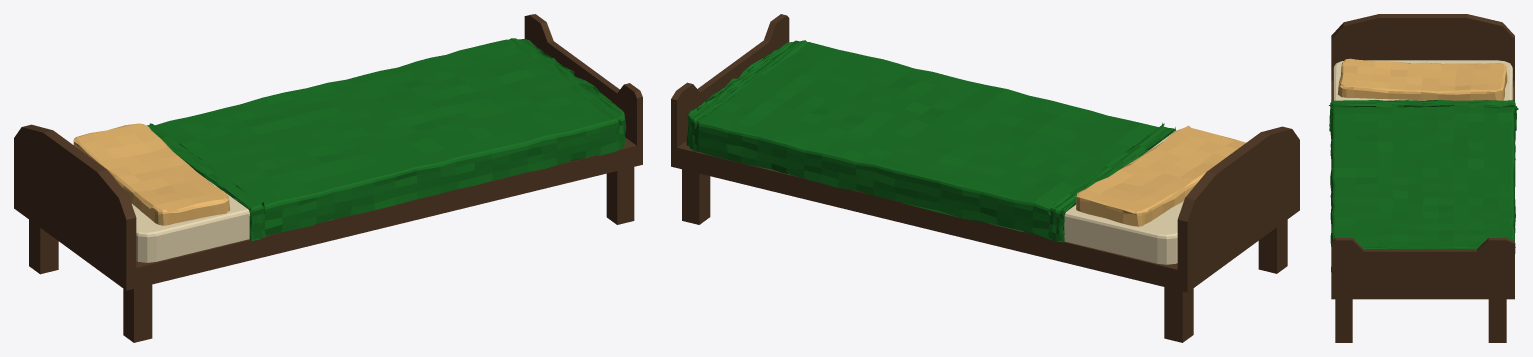
Rendered from Bed.glb.
3 renders of one model, left to right at view 1: azimuth 30°, elevation 25°; view 2: azimuth 150°, elevation 25°; view 3: azimuth 270°, elevation 25°, orthographic. The views are drawn at different scales.
Visible parts, largest first — view 1: Bed, Bed.002; view 2: Bed, Bed.002; view 3: Bed, Bed.002.
Boxes of the visible parts, x1,y1,x2,y2 form: Bed: [73, 38, 626, 262]; Bed.002: [14, 14, 642, 342]; Bed: [686, 40, 1246, 264]; Bed.002: [671, 14, 1299, 342]; Bed: [1329, 58, 1518, 271]; Bed.002: [1331, 14, 1514, 342].
Size of the model in its own units: 3.1 by 0.8796 by 1.21.
